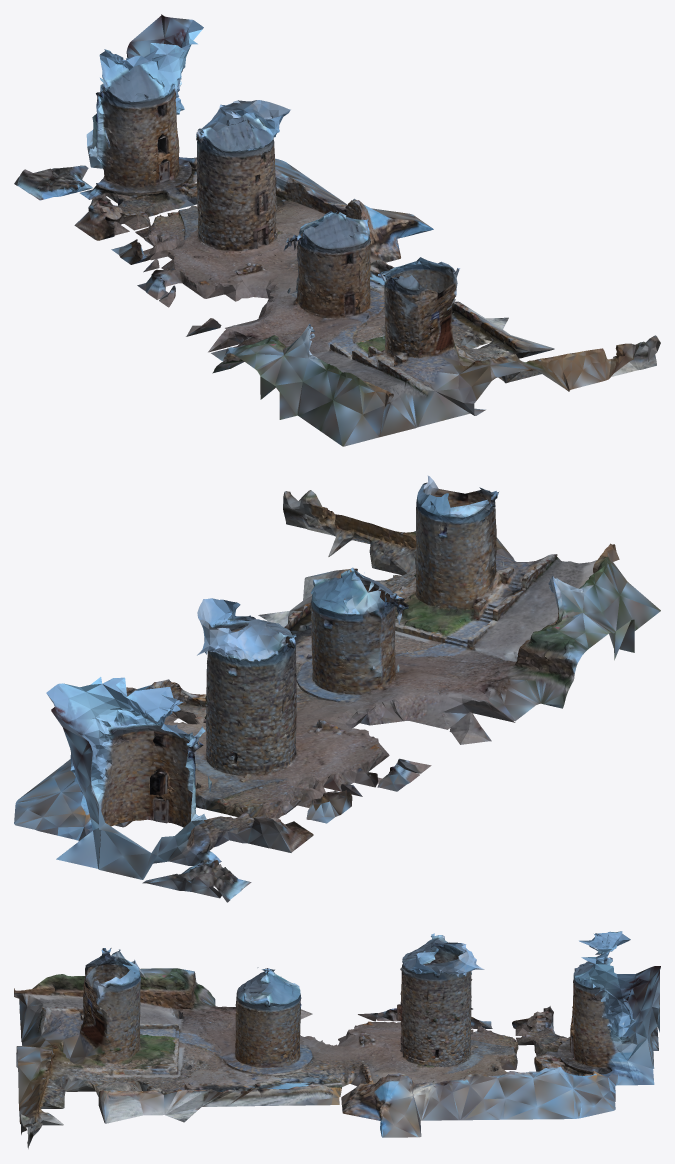
Rendered from Windmill50k-cleaned.obj.
3 views of the same model, one above another, from view 1: azimuth 30°, elevation 25°; view 2: azimuth 150°, elevation 25°; view 3: azimuth 270°, elevation 25° (orthographic). The views are drawn at different scales.
Parts seen in each view (by area): view 1: Windmill50k; view 2: Windmill50k; view 3: Windmill50k.
Part boxes in pixels (bbox=[...]): Windmill50k: bbox=[14, 14, 660, 446]; Windmill50k: bbox=[14, 475, 660, 902]; Windmill50k: bbox=[14, 931, 660, 1148].
Size of the model in its own units: 18.84 by 6.95 by 34.07.
Materials: 1 (1 with a texture image).
